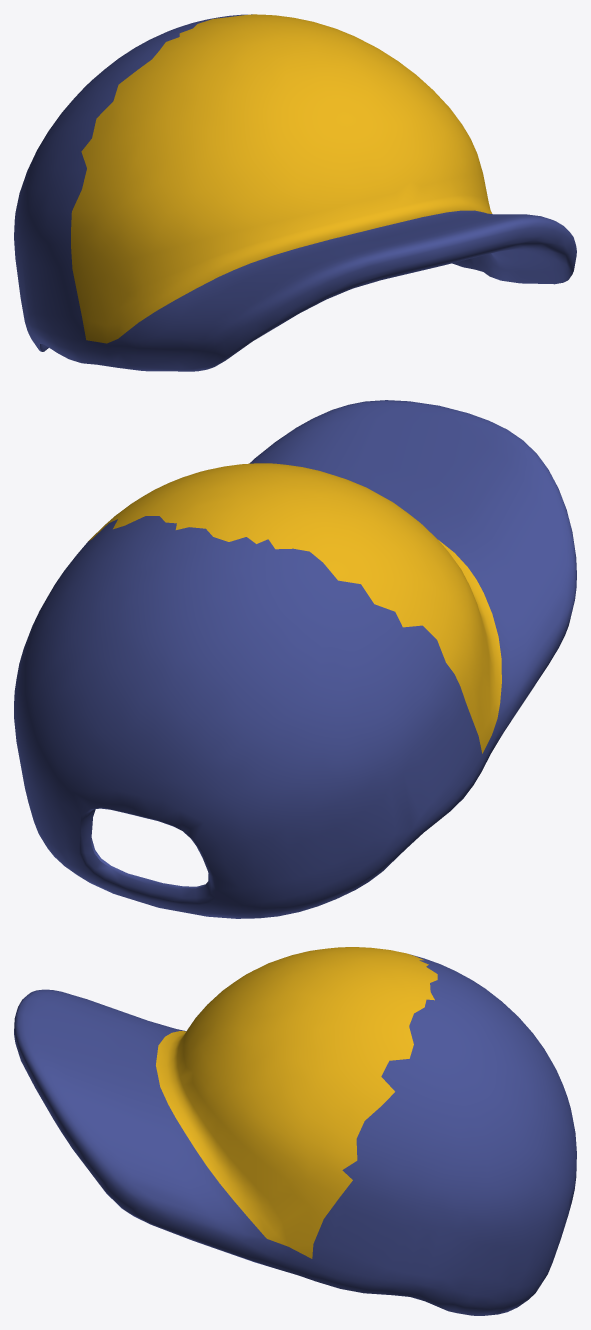
The model's file is headwear-cap-yellow-cf493145.glb.
3 renders of one model, top to bottom at view 1: azimuth 30°, elevation 25°; view 2: azimuth 150°, elevation 25°; view 3: azimuth 270°, elevation 25°, orthographic. The views are drawn at different scales.
Parts seen in each view (by area): view 1: cap_yellow.001; view 2: cap_yellow.001; view 3: cap_yellow.001.
Boxes of the visible parts, x1,y1,x2,y2 form: cap_yellow.001: (14, 14, 576, 371); cap_yellow.001: (14, 400, 576, 918); cap_yellow.001: (14, 947, 576, 1315).
Size of the model in its own units: 1.9 by 1.57 by 2.61.
